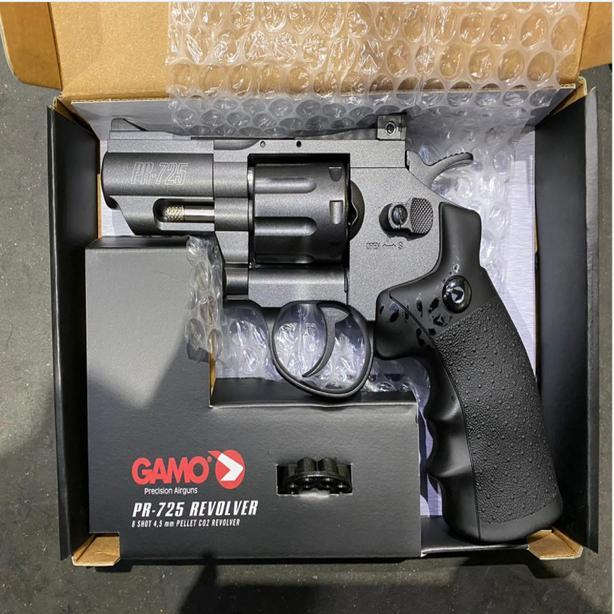Firearm: (80, 118, 566, 550)
